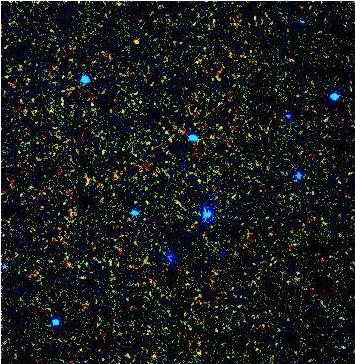star: (208, 231, 238, 261)
